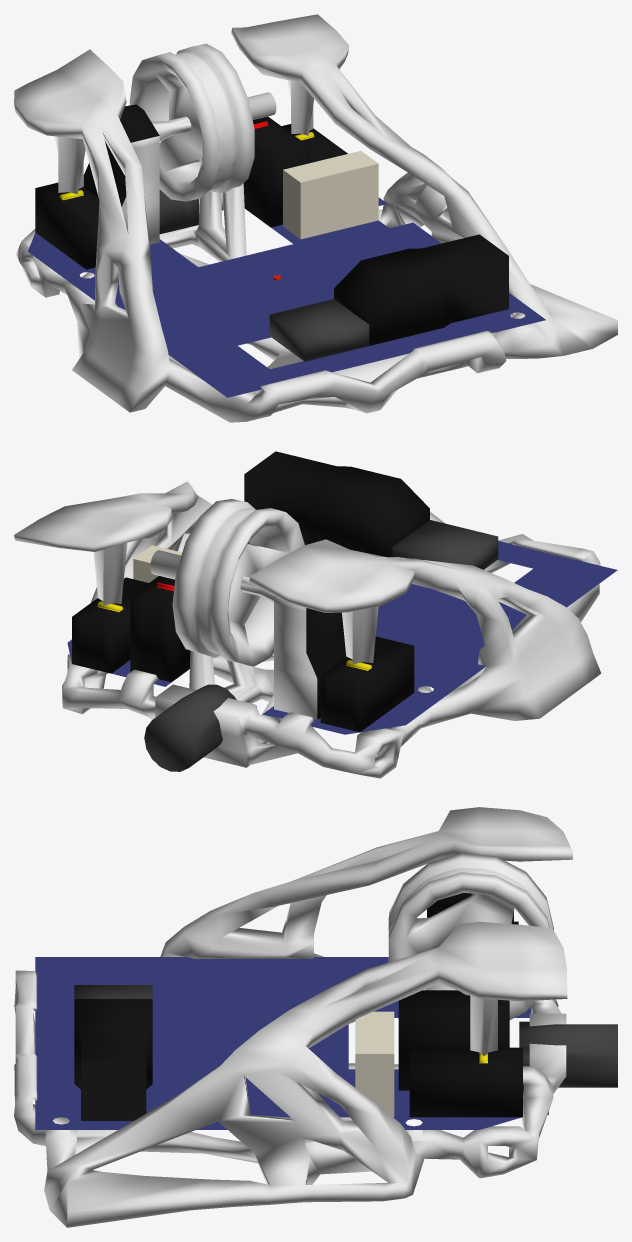
File: Mouse2.glb
The picture shows the model from 3 angles, top to bottom: view 1: azimuth 30°, elevation 25°; view 2: azimuth 150°, elevation 25°; view 3: azimuth 270°, elevation 25°; orthographic projection. The views are drawn at different scales.
Parts seen in each view (by area): view 1: Plane.005, Board.002, Circle.003, Laser housing.001, Cube.002, reciever.001, Scroll switch.001, Left switch.001, Scroll.001, Cylinder.006, Cylinder.004, Right switch.001; view 2: Plane.005, Circle.003, Board.002, Laser housing.001, Scroll.001, Left switch.001, Cylinder.006, Scroll switch.001, Right switch.001, reciever.001, Cylinder.004, Cube.002; view 3: Plane.005, Board.002, Circle.003, Laser housing.001, Right switch.001, Scroll switch.001, Cylinder.006, Cube.002, reciever.001.
Part boxes in pixels (x1,y1,x2,y2): Plane.005: [14, 14, 617, 422]; Board.002: [27, 197, 545, 397]; Circle.003: [129, 43, 254, 201]; Laser housing.001: [334, 234, 508, 345]; Cube.002: [283, 151, 378, 239]; reciever.001: [269, 299, 369, 361]; Scroll switch.001: [243, 116, 309, 227]; Left switch.001: [35, 182, 99, 269]; Scroll.001: [83, 104, 159, 244]; Cylinder.006: [159, 189, 198, 234]; Cylinder.004: [151, 92, 276, 141]; Right switch.001: [281, 124, 347, 162]; Plane.005: [14, 481, 601, 778]; Circle.003: [172, 499, 304, 666]; Board.002: [67, 541, 617, 734]; Laser housing.001: [244, 451, 429, 557]; Scroll.001: [274, 596, 346, 719]; Left switch.001: [320, 636, 414, 732]; Cylinder.006: [144, 684, 256, 771]; Scroll switch.001: [130, 576, 190, 682]; Right switch.001: [72, 577, 148, 673]; reciever.001: [392, 520, 498, 569]; Cylinder.004: [150, 550, 273, 602]; Cube.002: [133, 545, 181, 582]; Plane.005: [14, 807, 572, 1227]; Board.002: [35, 957, 531, 1129]; Circle.003: [388, 853, 553, 1019]; Laser housing.001: [74, 999, 152, 1120]; Right switch.001: [409, 1047, 522, 1117]; Scroll switch.001: [398, 990, 509, 1090]; Cylinder.006: [519, 1021, 617, 1094]; Cube.002: [355, 1011, 394, 1117]; reciever.001: [74, 985, 152, 998].
Size of the model in its own units: 65.7 by 29.12 by 69.37.
